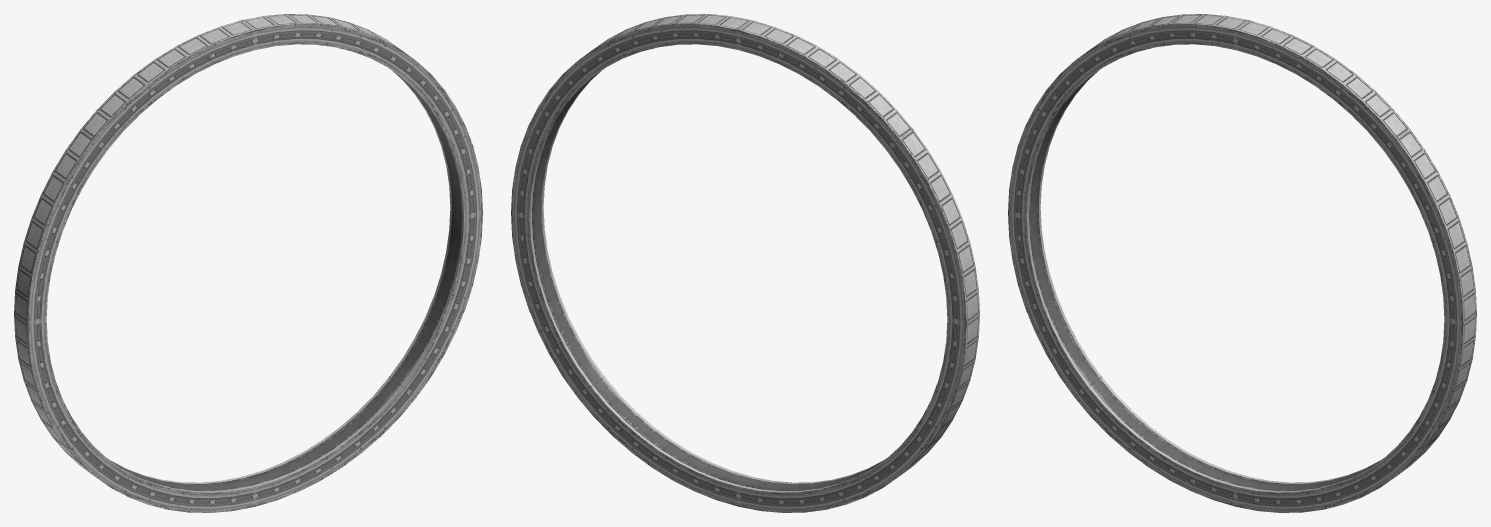
Rendered from BackgroundRing.fbx.
The picture shows the model from 3 angles, left to right: view 1: azimuth 30°, elevation 25°; view 2: azimuth 150°, elevation 25°; view 3: azimuth 330°, elevation 25°; orthographic projection.
Parts seen in each view (by area): view 1: pPipe6; view 2: pPipe6; view 3: pPipe6.
Boxes of the visible parts, x1,y1,x2,y2 form: pPipe6: (14,14,482,512); pPipe6: (511,14,979,512); pPipe6: (1008,14,1476,512).
Size of the model in its own units: 24 by 24 by 1.25.
